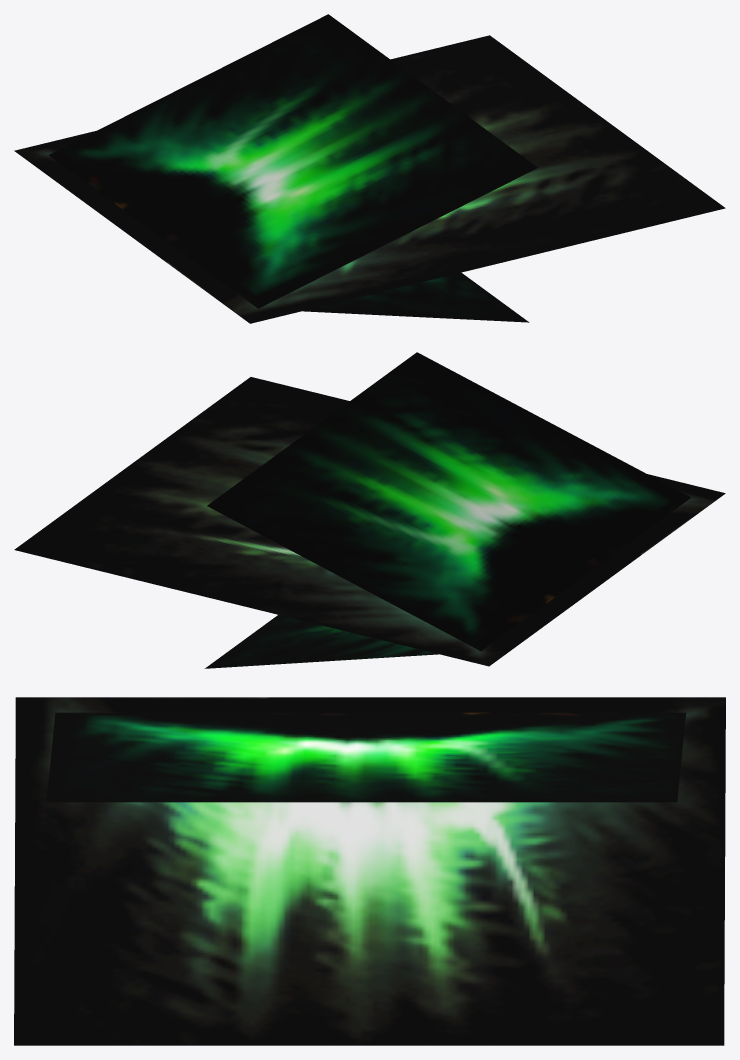
The model's file is fx_fbx_skill_npc_2016_2.FBX.
3 views of the same model, one above another, from view 1: azimuth 30°, elevation 25°; view 2: azimuth 150°, elevation 25°; view 3: azimuth 270°, elevation 25° (orthographic). The views are drawn at different scales.
Visible parts, largest first — view 1: Cylinder002; view 2: Cylinder002; view 3: Cylinder002.
Part boxes in pixels (x1,y1,x2,y2): Cylinder002: (14, 14, 725, 323); Cylinder002: (14, 352, 725, 668); Cylinder002: (14, 697, 725, 1045).
Bounding box in the file's own units: 108 × 93.57 × 34.41.
Materials: 1 (1 with a texture image).
